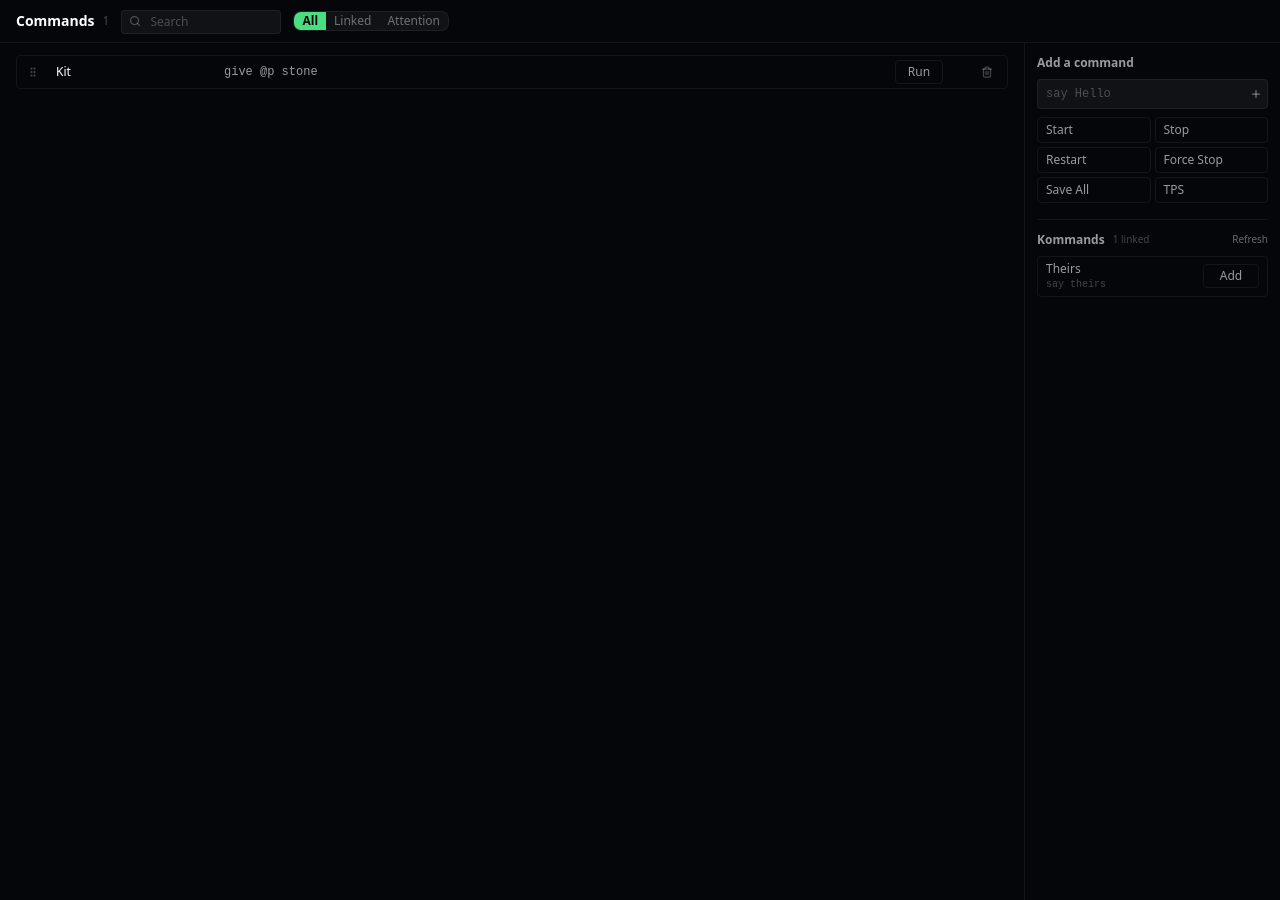
it: CommandLibrary Kommands panel › adds a linked command as a new row, once
Expected: the text "Commands" is shown, [16,11,95,31]
Expected: the text "1 linked" is shown, [1113,232,1150,247]
Click the button with aria-label "Add Theirs": (1231, 276) [1203,264,1259,288]
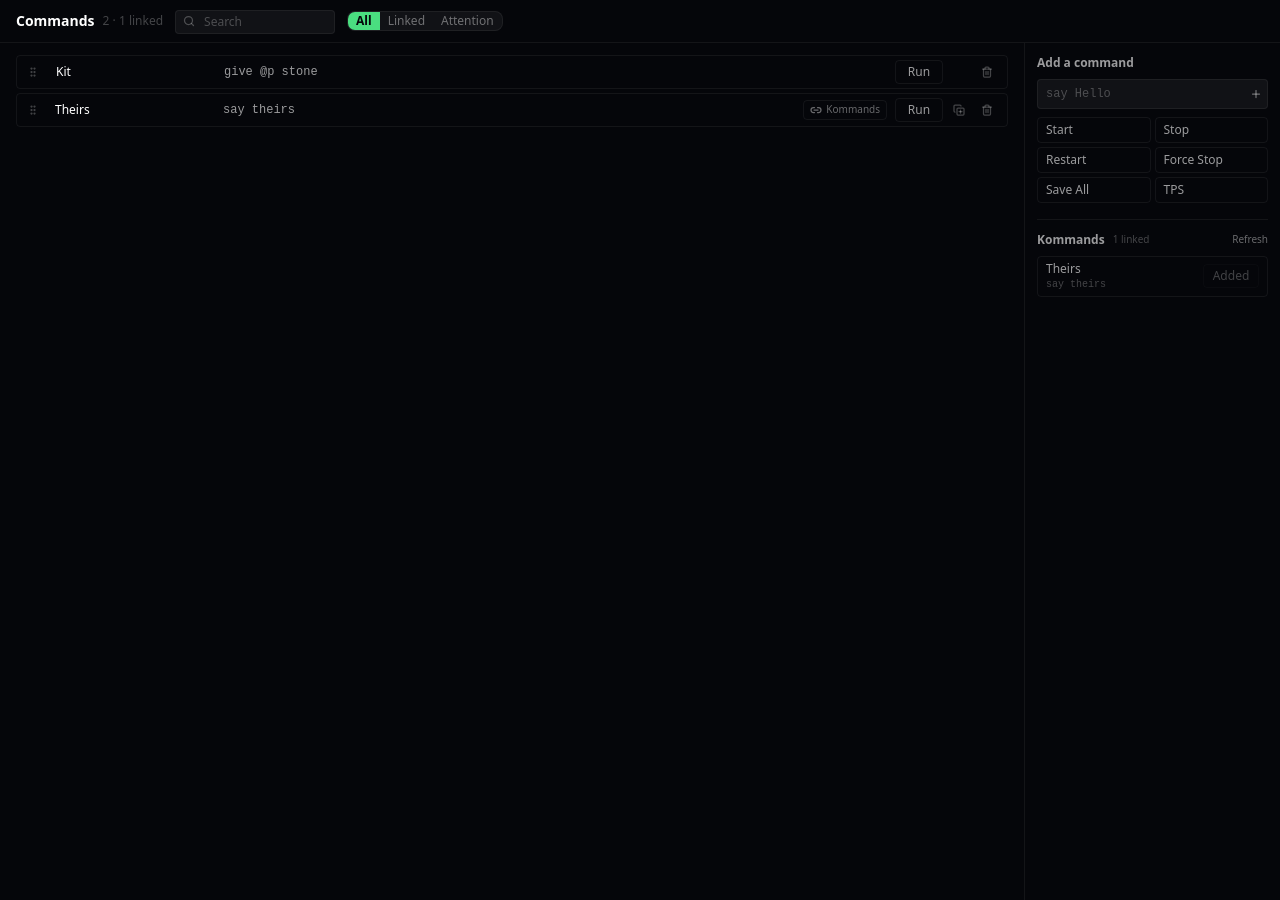
Now the button with aria-label "Theirs is added" is disabled, box [1203,264,1259,288]
Now the text "2 · 1 linked" is shown, box [103,13,163,29]
